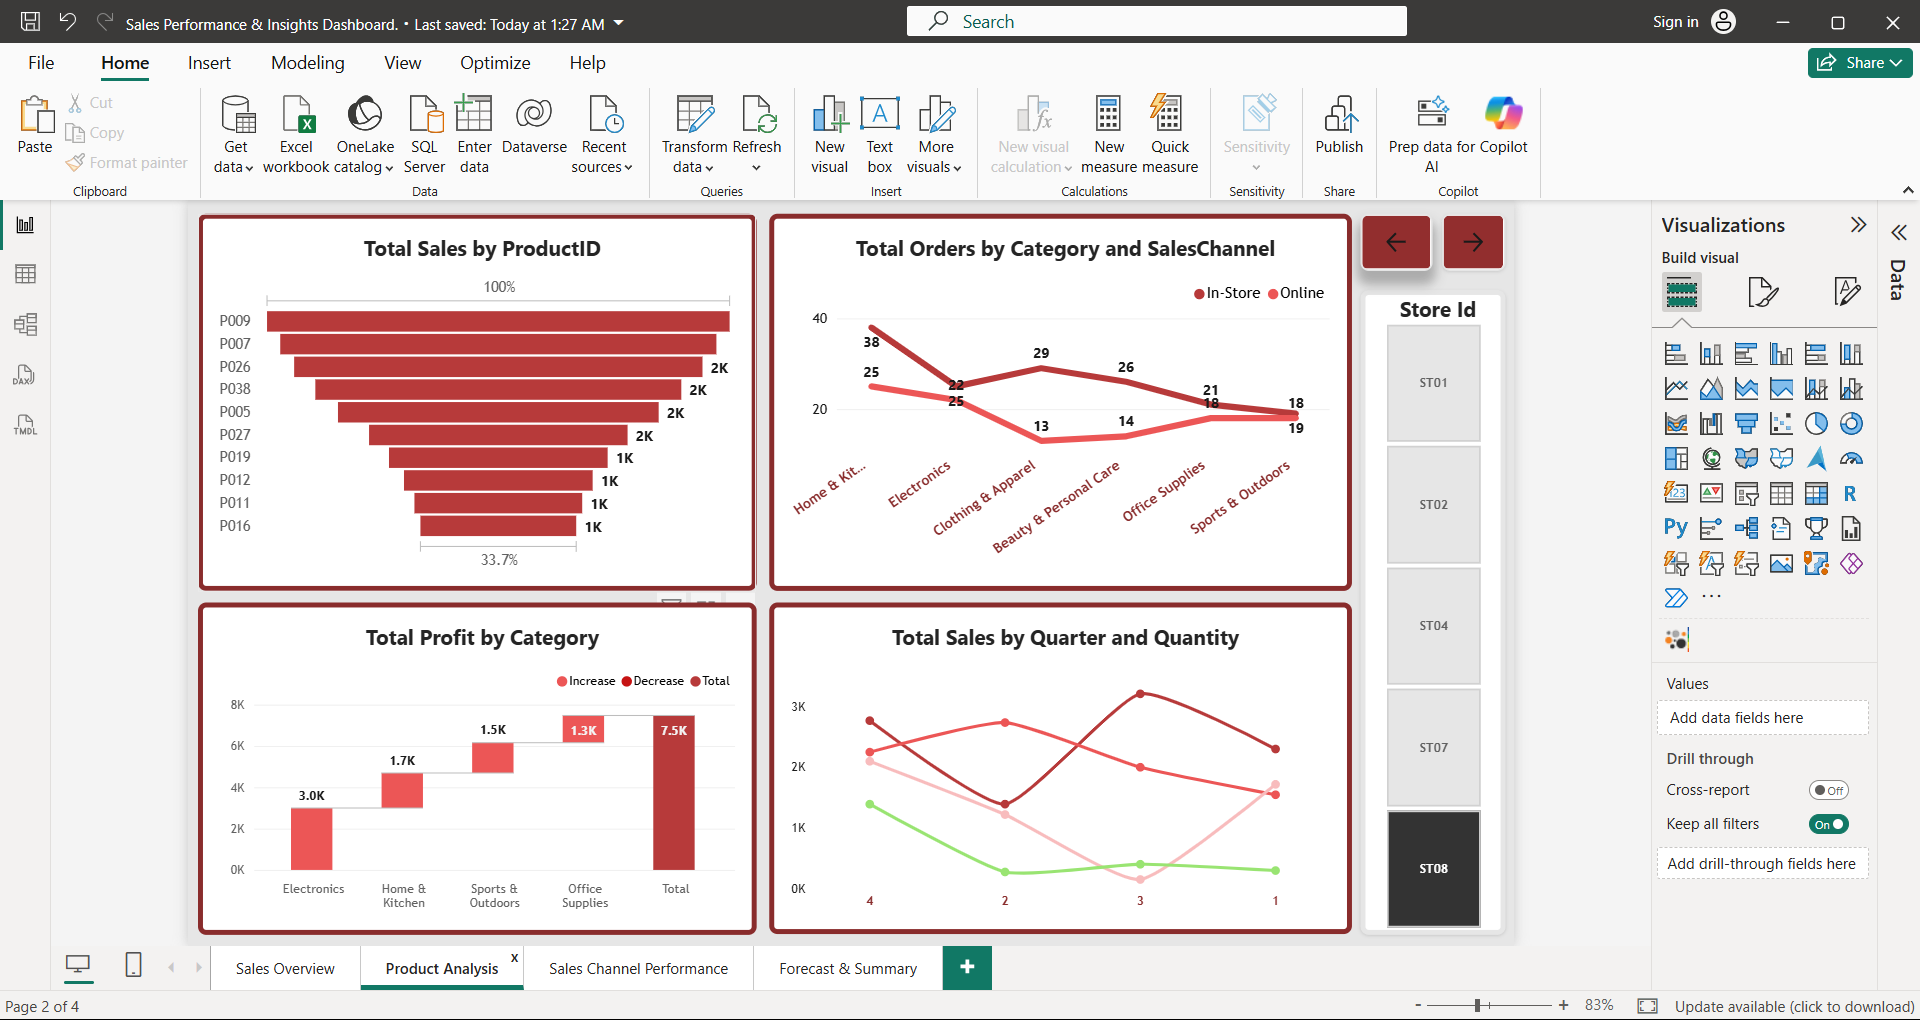

This screenshot's page, from the dashboard's own definition file:
{"tool":"powerbi","page":{"name":"Product Analysis","canvas":[1280,720],"ordinal":2},"visuals":[{"type":"funnel","fields":{"Category":["Products.ProductID"],"Y":["Sales.Total Sales"]},"box":[9.7,13.3,539.3,364.3],"z":0},{"type":"waterfallChart","fields":{"Category":["Products.Category"],"Y":["Sales.Total Profit"]},"box":[9.7,388.5,539.3,320.9],"z":1000},{"type":"lineChart","fields":{"Category":["Products.Category"],"Series":["Sales.SalesChannel"],"Y":["Sales.Total Orders"]},"box":[561,13.3,562.2,364.3],"z":2000},{"type":"lineChart","fields":{"Category":["DateTable.Quarter"],"Series":["Sales.Quantity"],"Y":["Sales.Total Sales"]},"box":[560.7,388.2,562.1,320],"z":3000},{"type":"slicer","title":"Store Id","fields":{"Values":["Sales.StoreID"]},"box":[1131.6,86.9,139.9,622.5],"z":4000},{"type":"actionButton","box":[1210.1,13.3,61.5,55.5],"z":7000},{"type":"actionButton","box":[1131.6,13.3,70,55.5],"z":8000}]}

Visuals, with their boxes on the page's 1280x720 design canvas (x1, y1, x2, y2). These are canvas units, not pixel positions in the 1920x1020 screenshot, which may show the page scaled, cropped or inside an application window:
funnel - Products.ProductID x Sales.Total Sales: Rect(10, 13, 549, 378)
waterfallChart - Products.Category x Sales.Total Profit: Rect(10, 388, 549, 709)
lineChart - Products.Category x Sales.SalesChannel: Rect(561, 13, 1123, 378)
lineChart - DateTable.Quarter x Sales.Quantity: Rect(561, 388, 1123, 708)
"Store Id" slicer: Rect(1132, 87, 1272, 709)
actionButton: Rect(1210, 13, 1272, 69)
actionButton: Rect(1132, 13, 1202, 69)
